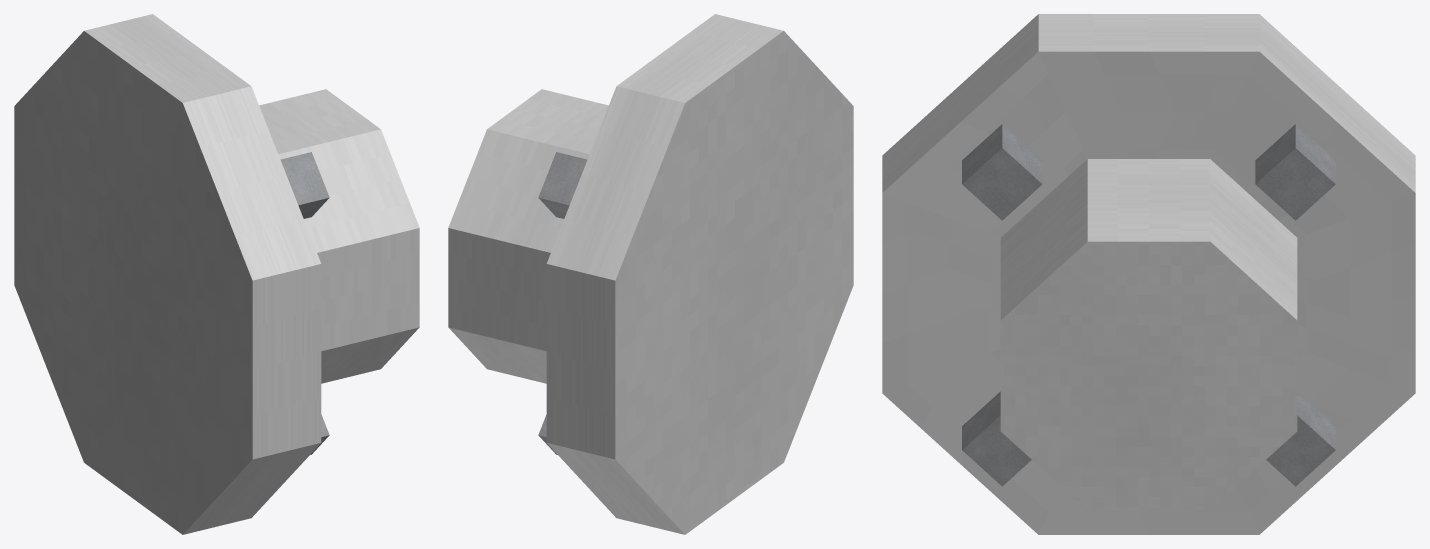
File: nuclear_generator_supply_west.obj
3 views of the same model, side by side, from view 1: azimuth 30°, elevation 25°; view 2: azimuth 150°, elevation 25°; view 3: azimuth 270°, elevation 25° (orthographic). The views are drawn at different scales.
Size of the model in its own units: 0.3 by 0.5625 by 0.5625.
